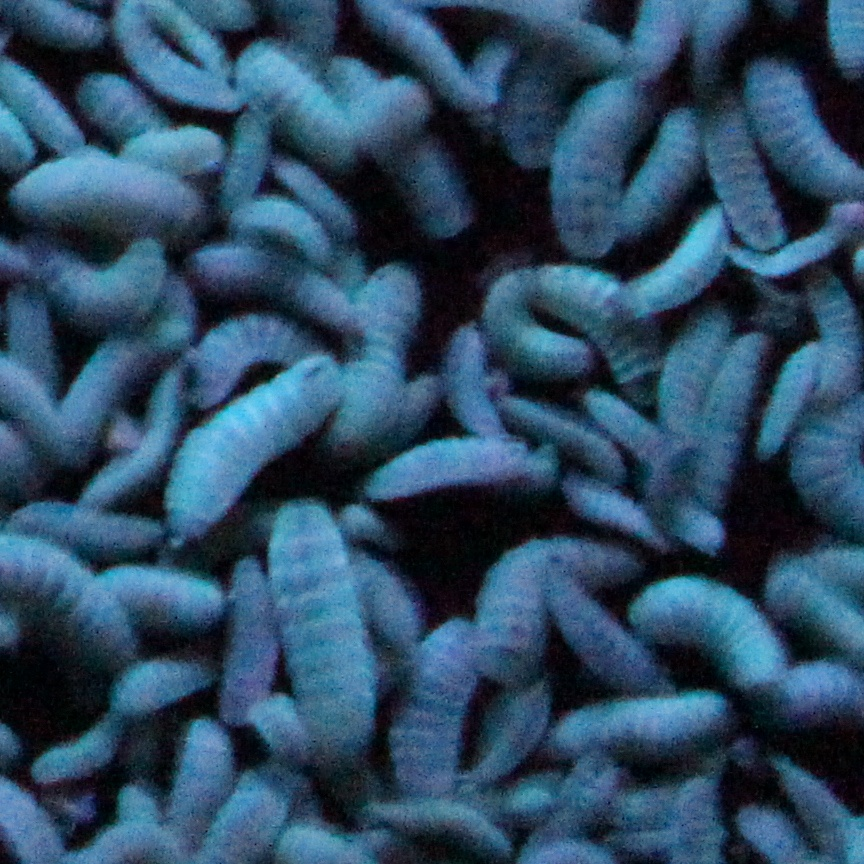larve: (274, 522, 389, 759), (189, 367, 337, 530), (555, 93, 633, 263), (26, 167, 211, 237), (466, 522, 548, 674), (192, 245, 340, 321), (340, 263, 404, 438), (764, 55, 836, 200), (559, 694, 728, 755), (648, 585, 763, 670), (406, 621, 460, 795), (363, 448, 555, 496), (556, 572, 632, 689), (47, 246, 162, 323), (388, 154, 484, 240), (709, 330, 754, 505), (375, 794, 505, 854), (227, 560, 272, 728), (499, 43, 556, 174), (116, 651, 225, 719), (809, 272, 861, 411), (477, 685, 549, 781), (494, 314, 588, 385), (121, 563, 218, 631), (135, 360, 181, 492), (659, 293, 702, 432), (716, 106, 764, 229), (650, 114, 697, 238), (791, 743, 847, 842), (442, 322, 492, 432), (71, 335, 116, 453), (231, 775, 296, 856), (286, 86, 354, 162), (179, 729, 234, 814), (762, 331, 798, 459), (222, 109, 271, 198), (558, 484, 654, 529), (551, 761, 608, 835), (357, 84, 420, 150), (232, 200, 328, 243), (792, 576, 851, 644), (112, 788, 169, 856), (36, 723, 105, 778), (679, 785, 726, 861), (96, 64, 141, 142), (400, 16, 450, 85), (27, 82, 75, 149), (146, 124, 217, 169), (587, 399, 652, 443), (301, 824, 366, 859)
